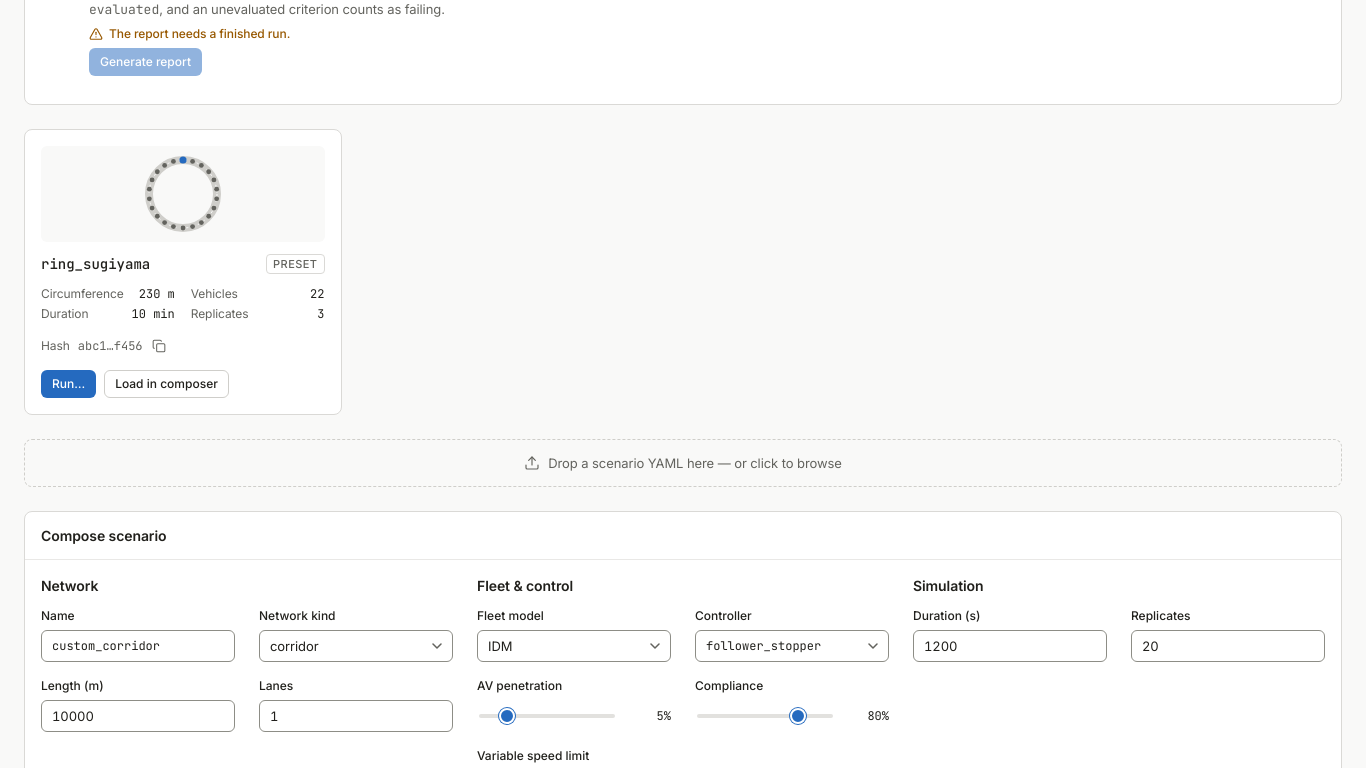
Test case: ScenariosView (real API shapes) › closes the launcher when the API drops, and refuses one already open
(page scrolled)
Expected: the text "ring_sugiyama" is shown, [41,255,150,273]
What coordinates should you click on to do the following:
click the button "Run…"
I would click on:
 (69, 384)
Its box is [41,370,96,398].
(page scrolled)
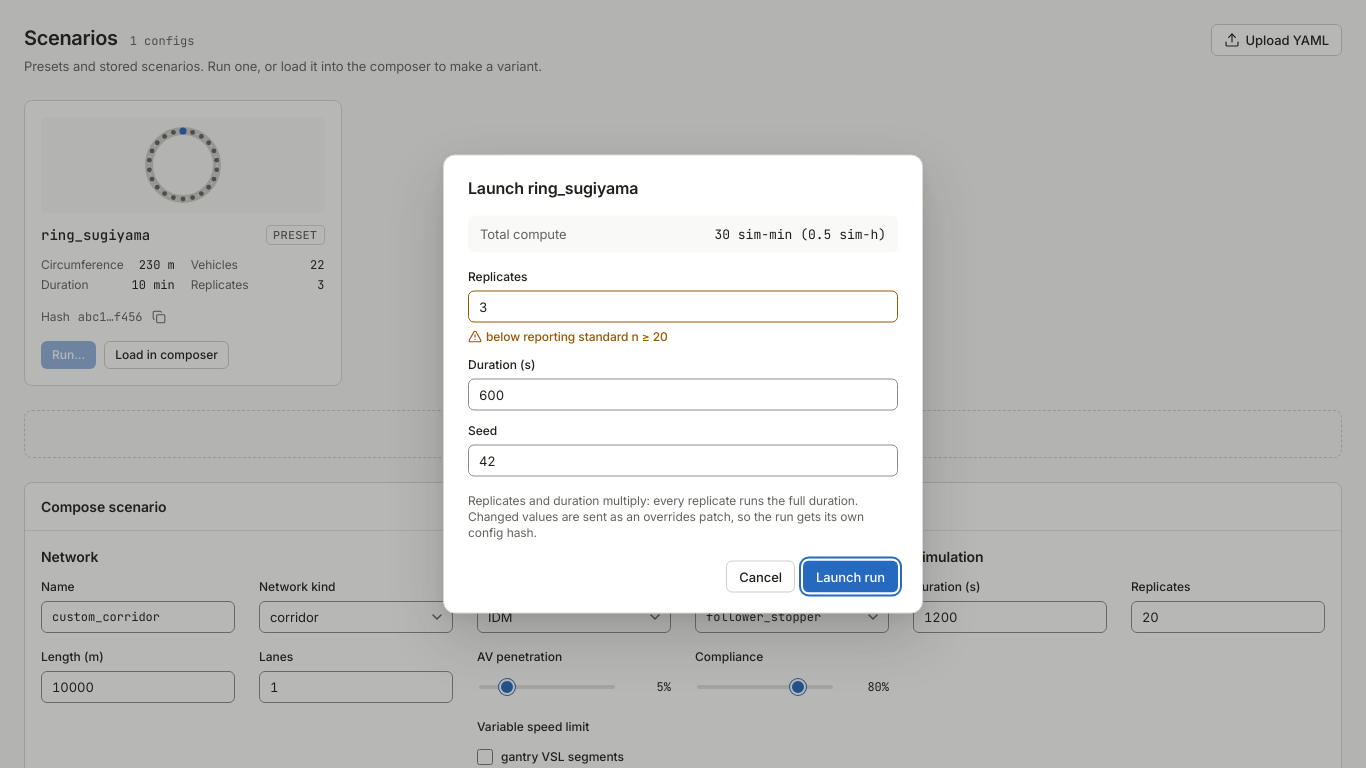
Result: the button "Run…" is disabled at [41,341,96,369]
What coordinates should you click on to do the following:
click the button "Launch run"
I would click on:
 (850, 576)
Its box is [803,560,898,592].
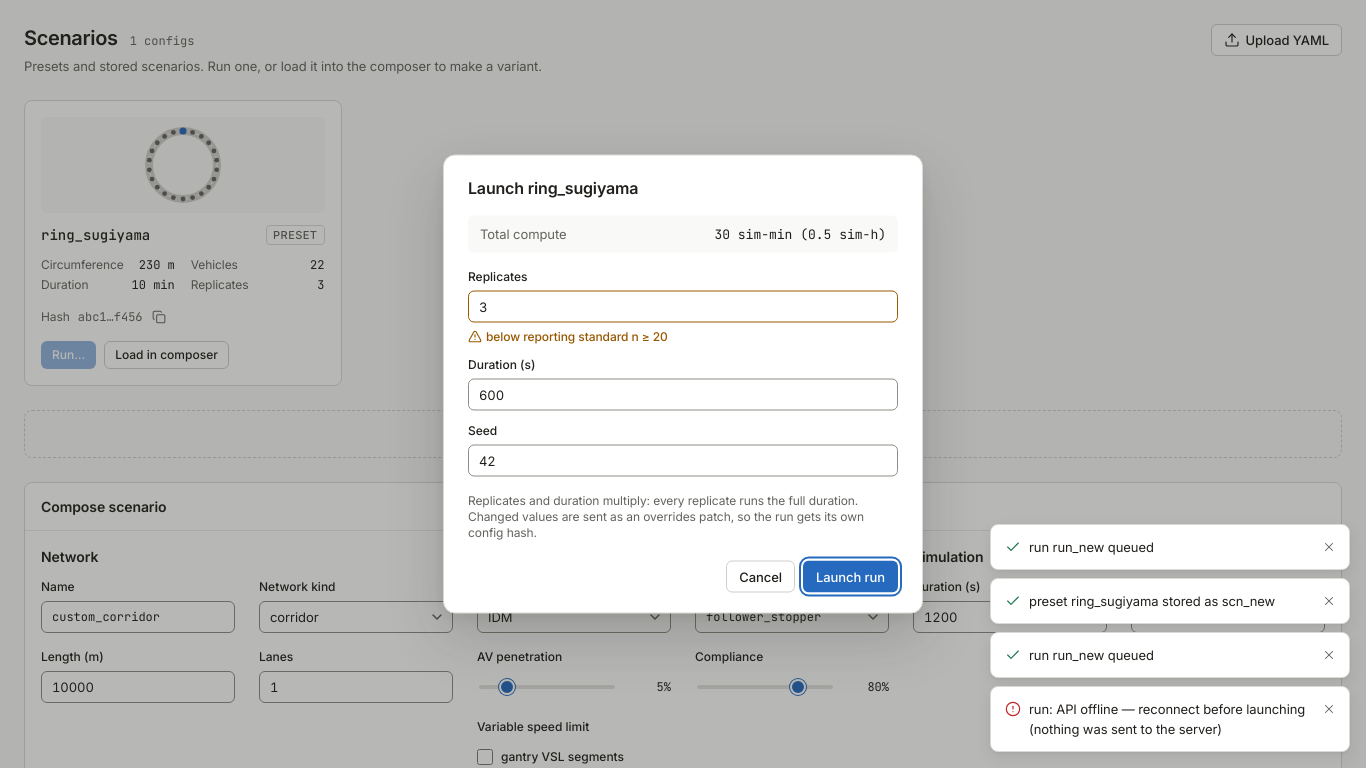
Result: the text "API offline" is shown at [1029,701,1305,737]
